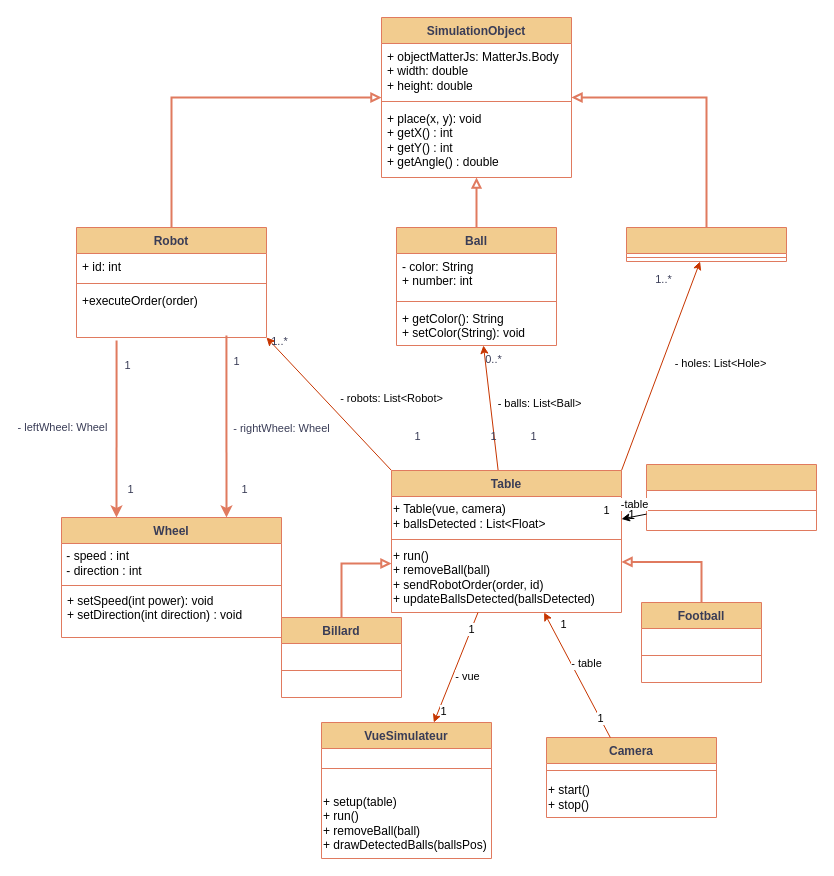
The diagram is 834 pixels wide and 876 high, and some of its shapes have lost their labels. The shapes that lost their labels are listed below. From the top down, each one's centre as x and y in pixels, then its label:
At [706,244]: "Hole".
At [731,497]: "CollisionController".
